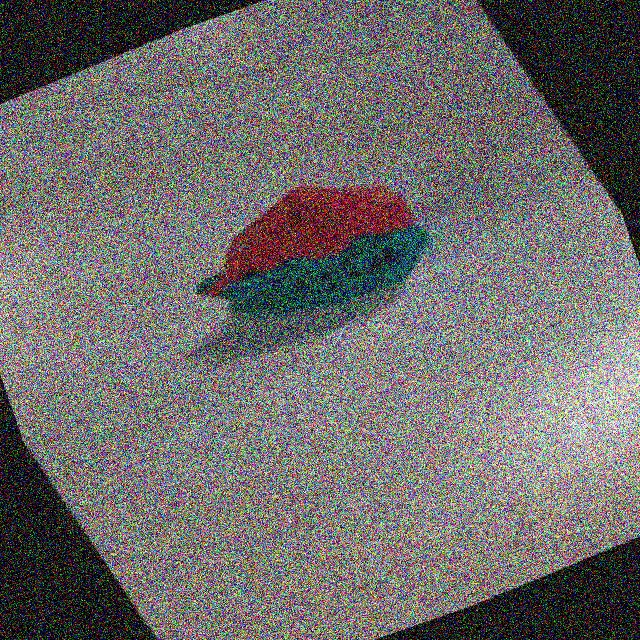House: (157, 137, 463, 365)
